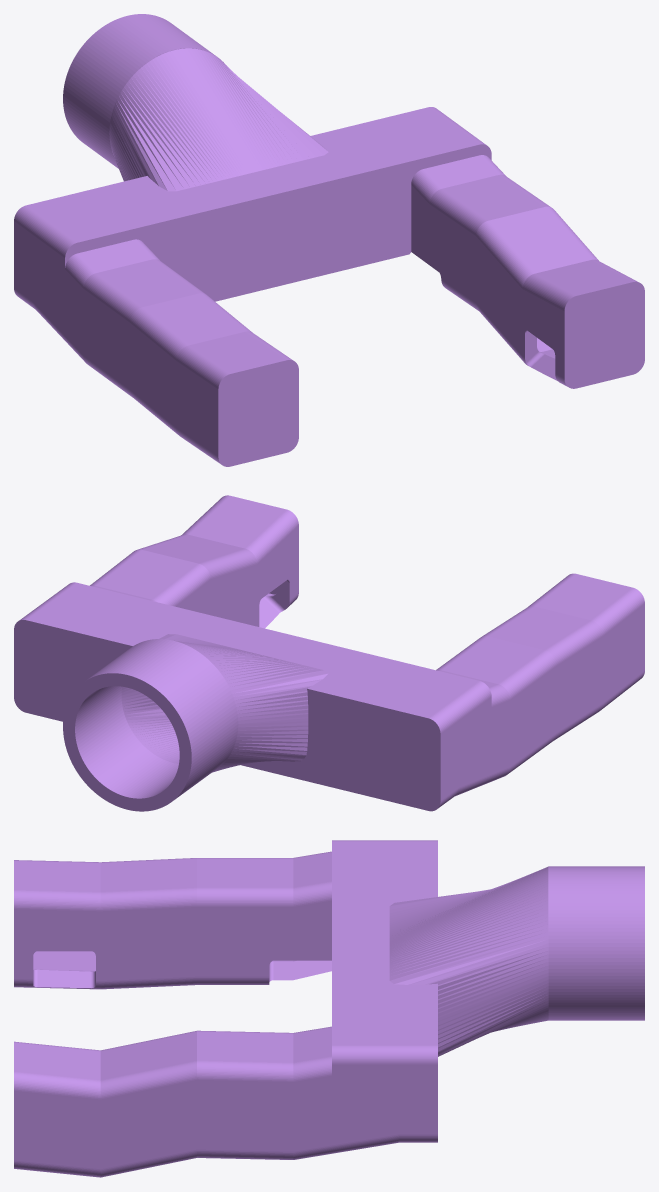
The model's file is hood.glb.
3 views of the same model, one above another, from view 1: azimuth 30°, elevation 25°; view 2: azimuth 150°, elevation 25°; view 3: azimuth 270°, elevation 25° (orthographic). The views are drawn at different scales.
Parts seen in each view (by area): view 1: REVIEW_EXPORT_hood; view 2: REVIEW_EXPORT_hood; view 3: REVIEW_EXPORT_hood.
Part boxes in pixels (x1=…): REVIEW_EXPORT_hood: x1=14, y1=14, x2=644, y2=466; REVIEW_EXPORT_hood: x1=14, y1=495, x2=644, y2=811; REVIEW_EXPORT_hood: x1=14, y1=840, x2=644, y2=1177.
Size of the model in its own units: 0.106 by 0.046 by 0.131.
